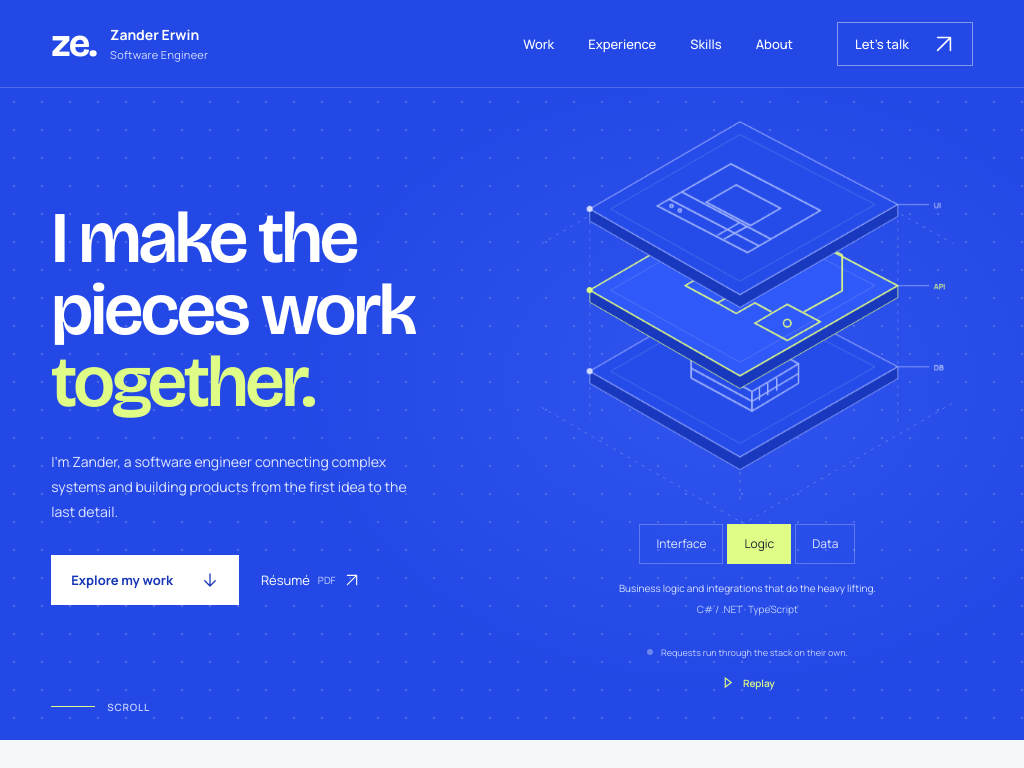
request playback can restart and a manual selection cancels pending steps
This screenshot has width=1024, height=768.
Later steps or results of the test are not shown.
What coordinates should you click on to do the following:
click the button with aria-label "Run a request through the software stack"
I would click on:
 (747, 683)
Its box is top-left (710, 668), bottom-right (785, 698).
Wait 680 ms
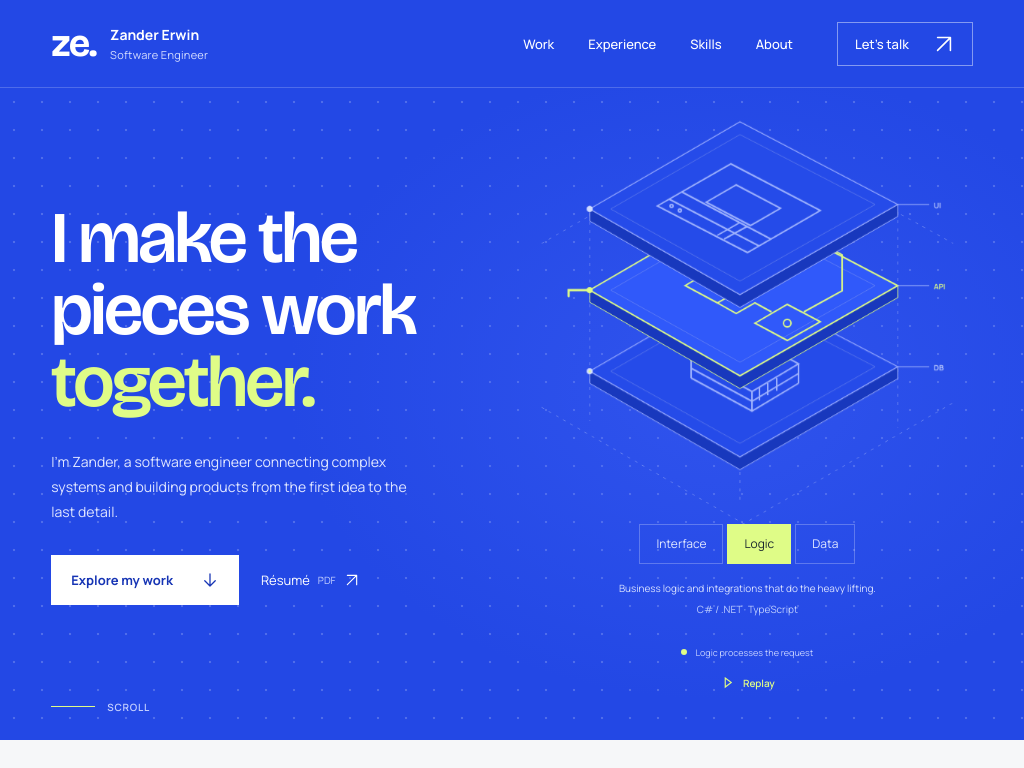
What coordinates should you click on to do the following:
click the button with aria-label "Run a request through the software stack"
I would click on:
 (747, 683)
Its box is top-left (710, 668), bottom-right (785, 698).
Wait 1360 ms
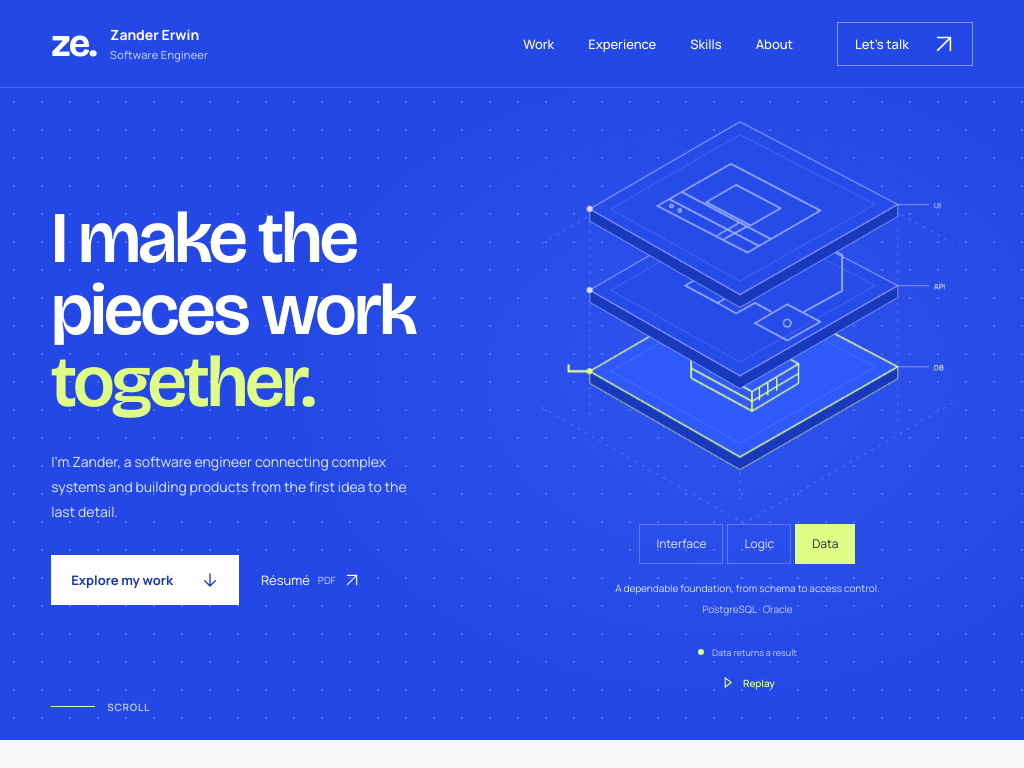
Now the button "Data" is pressed, box top-left (795, 524), bottom-right (855, 564)
What coordinates should you click on to do the following:
click the button "Interface"
I would click on:
 (681, 544)
Its box is top-left (639, 524), bottom-right (724, 564).
Wait 5000 ms
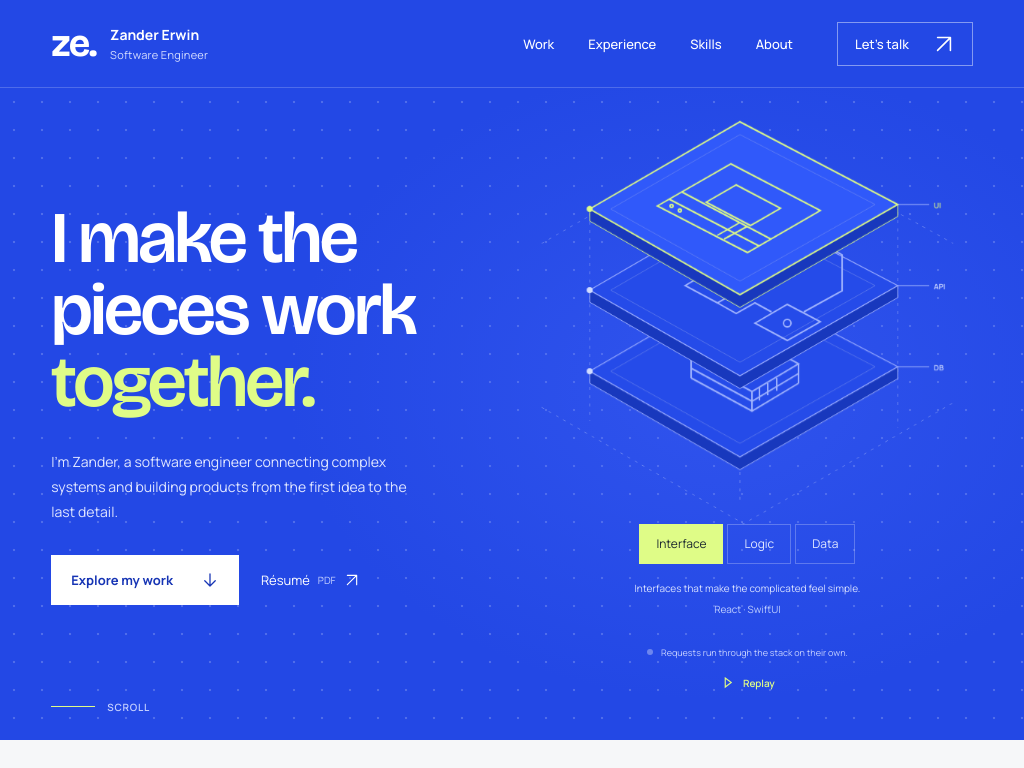
Now the button "Interface" is pressed, box top-left (639, 524), bottom-right (724, 564)
